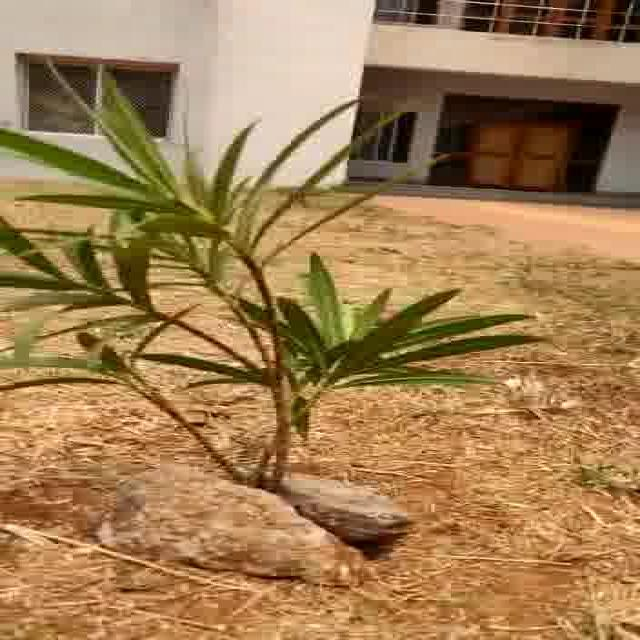Oleander: (0, 67, 517, 438)
